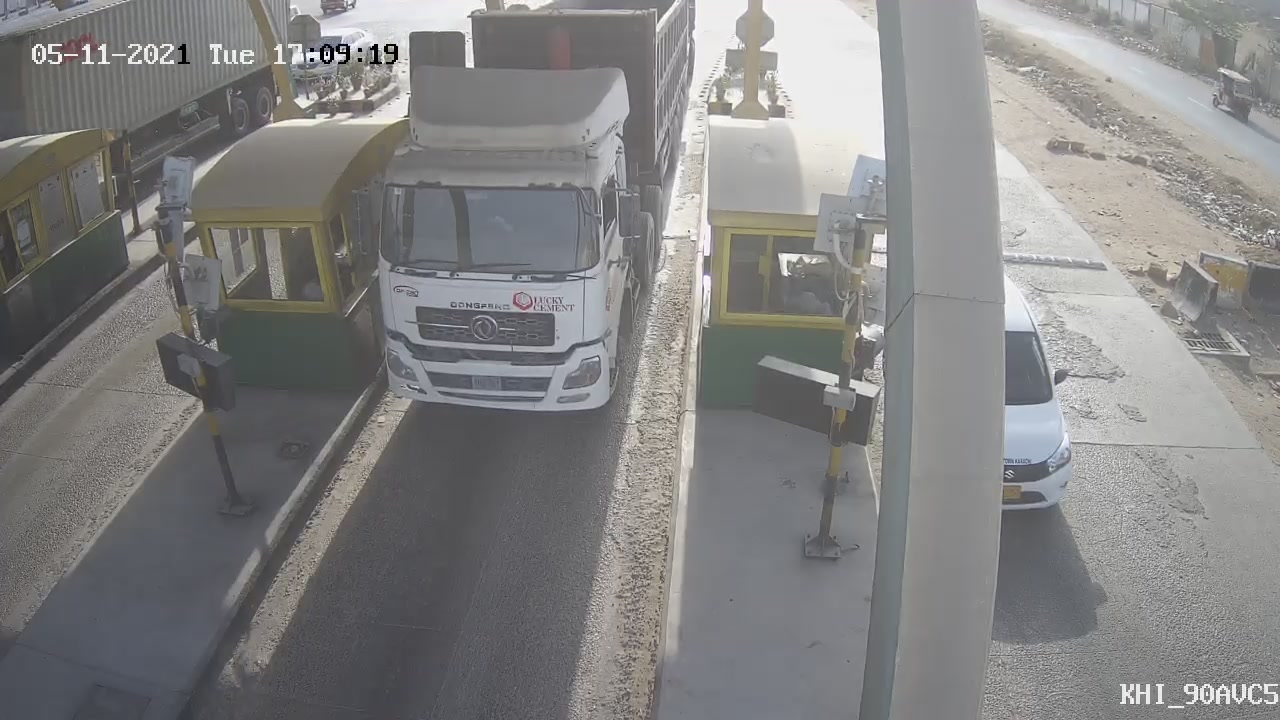F6: (324, 3, 709, 430)
